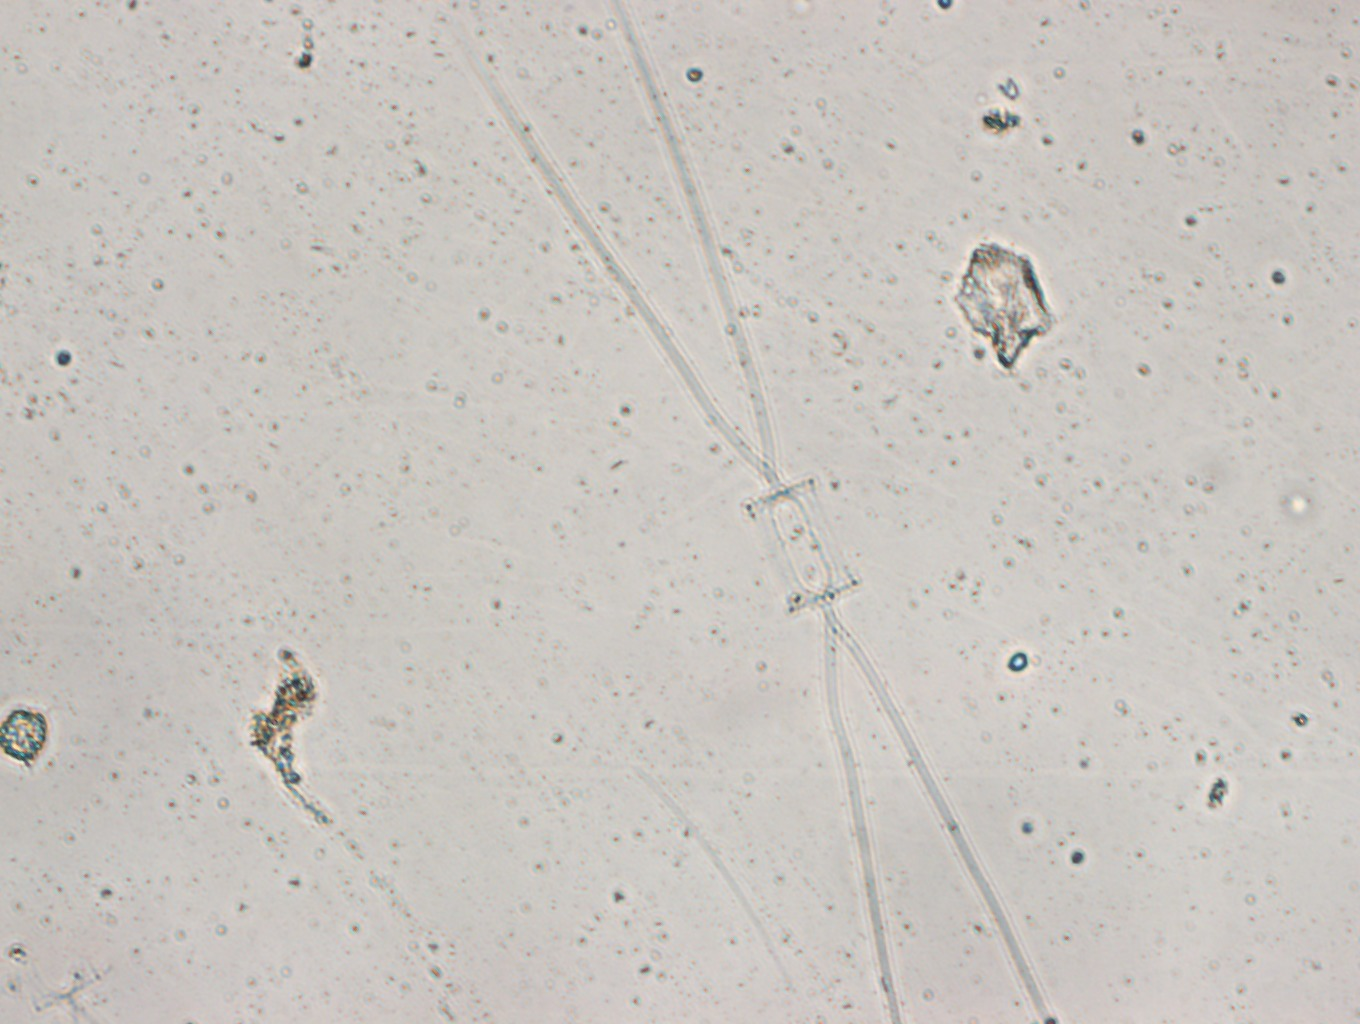chaetoceros: (443, 1, 1053, 1024)
